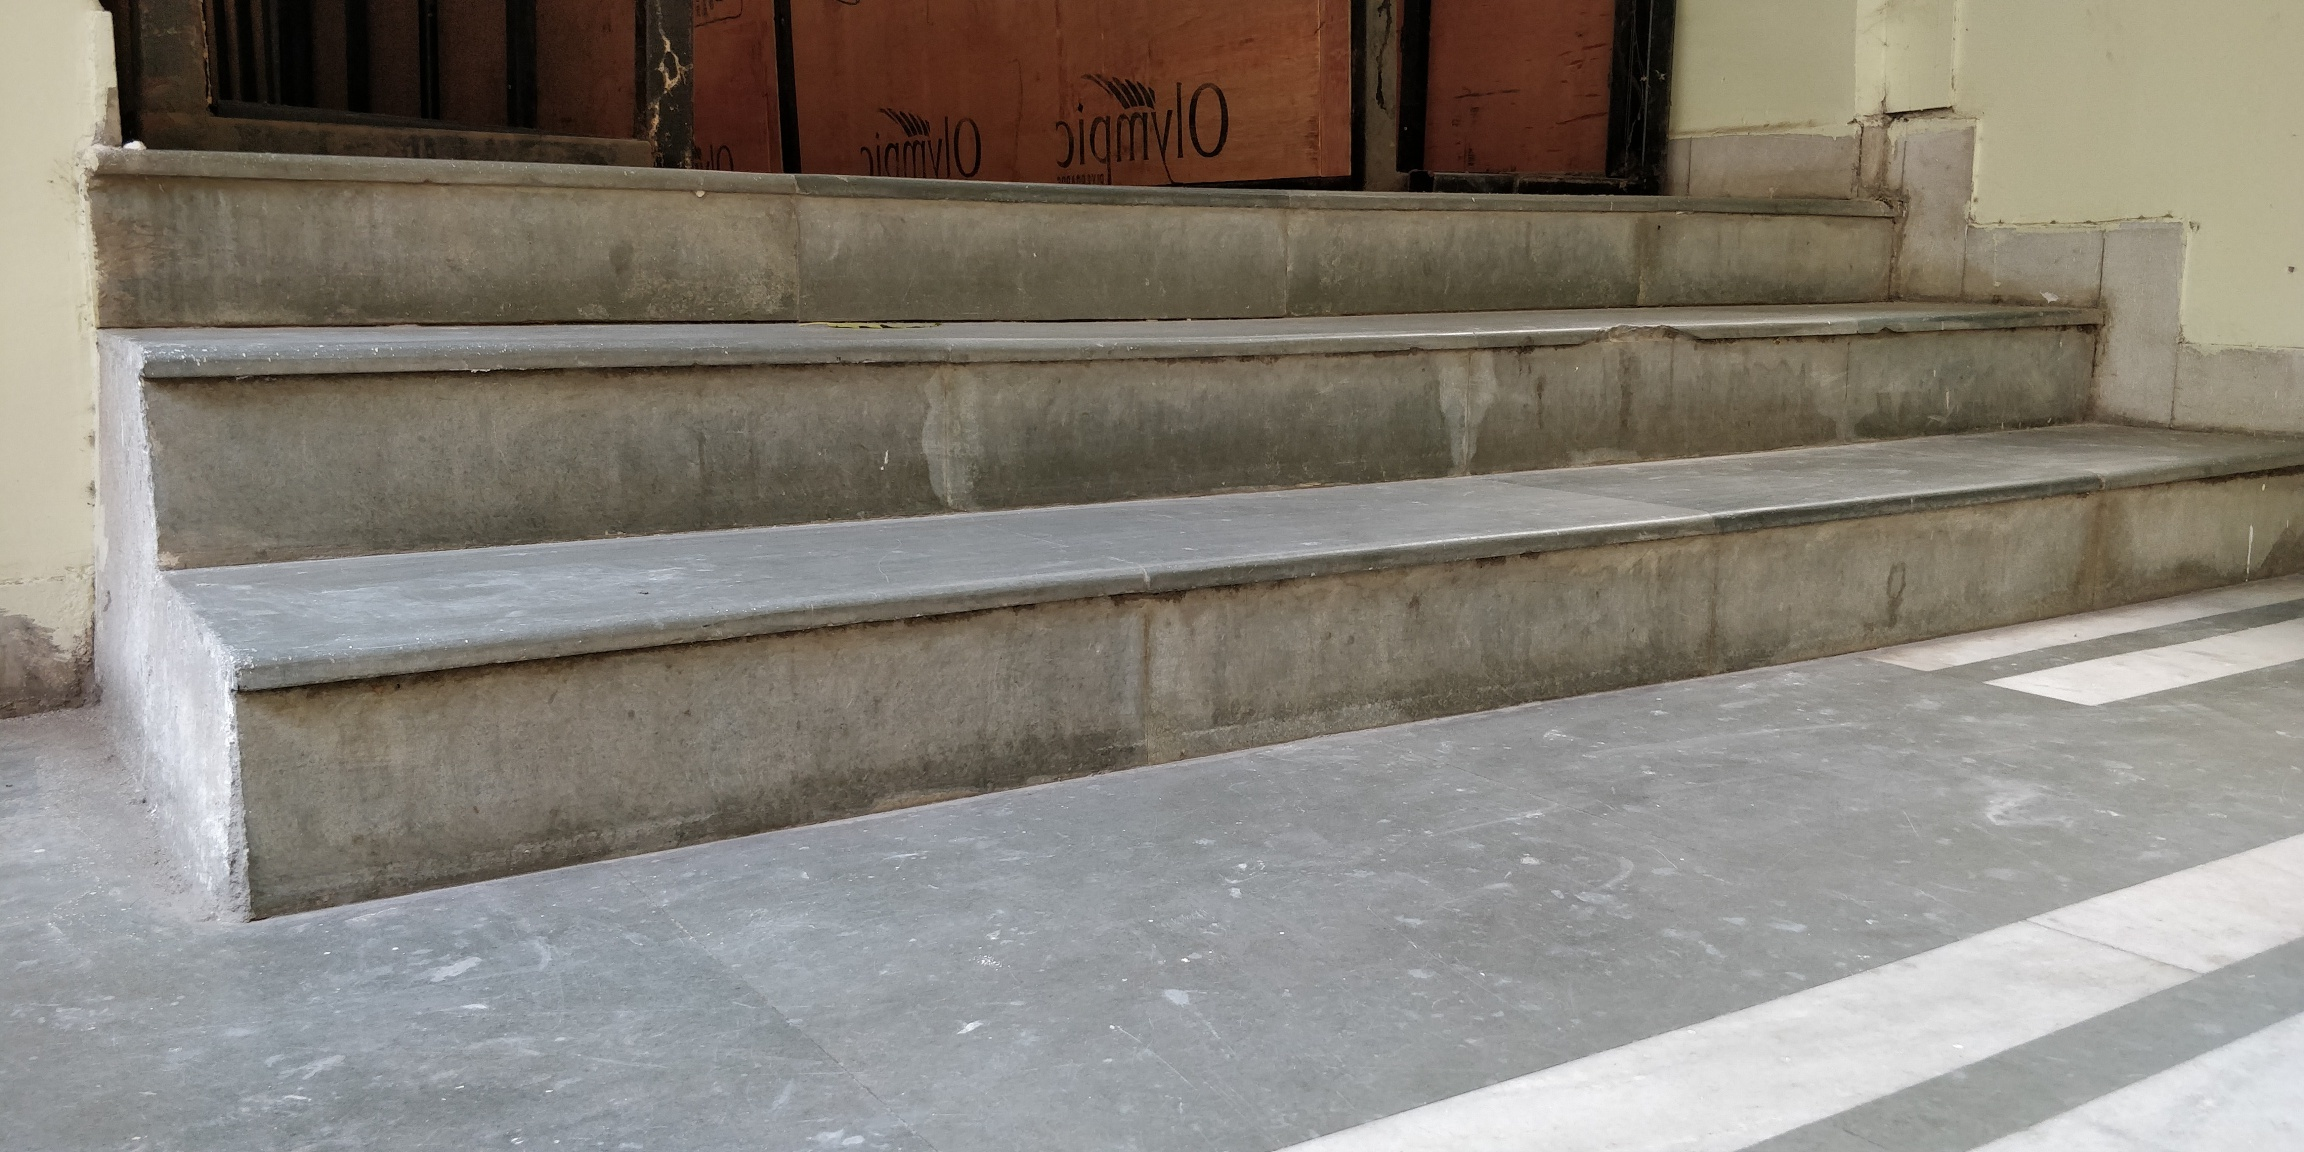stairs_up: (82, 98, 1975, 767)
